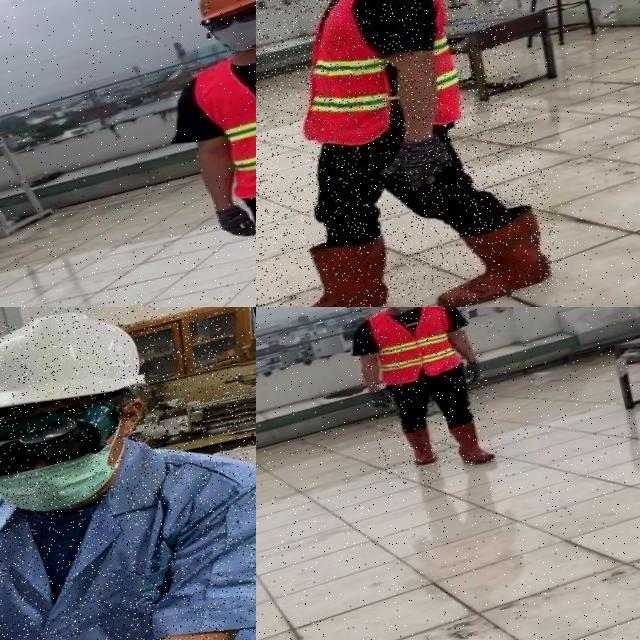boots: (422, 206, 556, 307), (256, 230, 396, 307), (448, 416, 496, 468), (401, 424, 438, 468)
helmet: (0, 307, 157, 436), (184, 0, 256, 23)
vest: (271, 0, 471, 159), (187, 24, 256, 209), (364, 307, 463, 388)
